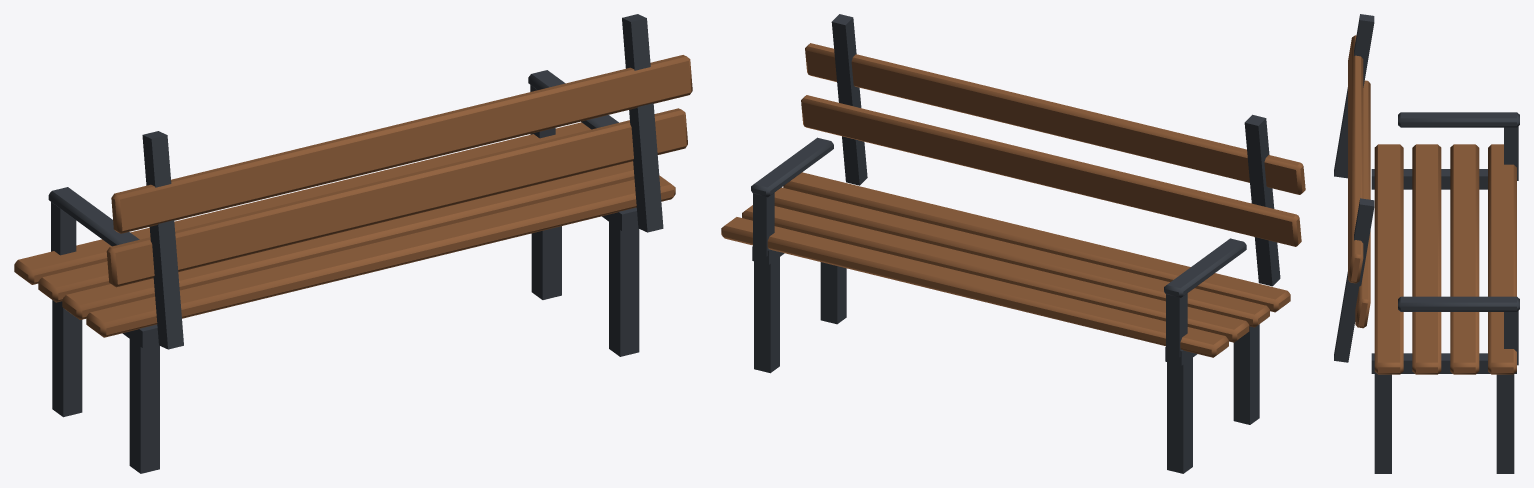
Rendered from bench.glb.
3 views of the same model, side by side, from view 1: azimuth 30°, elevation 25°; view 2: azimuth 150°, elevation 25°; view 3: azimuth 270°, elevation 25° (orthographic). The views are drawn at different scales.
Parts seen in each view (by area): view 1: PROP_bench; view 2: PROP_bench; view 3: PROP_bench.
Boxes of the visible parts, x1=… form: PROP_bench: x1=14, y1=14, x2=692, y2=473; PROP_bench: x1=721, y1=14, x2=1305, y2=473; PROP_bench: x1=1334, y1=14, x2=1519, y2=473.
Bounding box in the file's own units: 1.8 × 1.02 × 0.6396.
